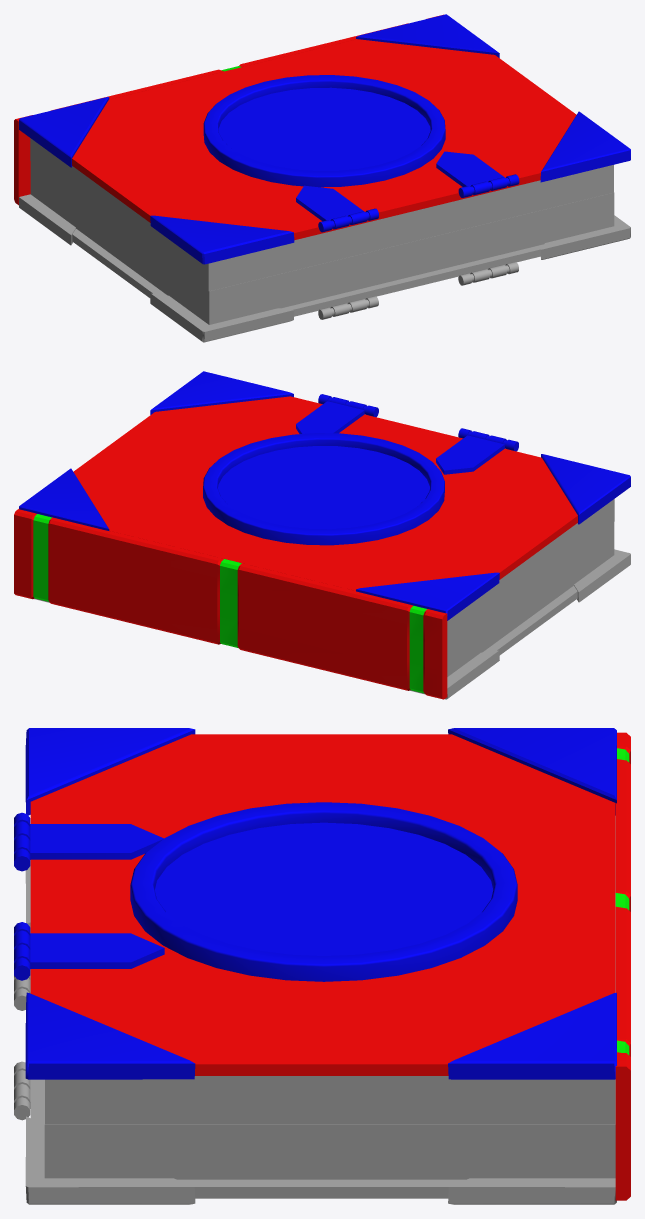
File: Prop_Book_Open_Animation_2.fbx
The picture shows the model from 3 angles, top to bottom: view 1: azimuth 30°, elevation 25°; view 2: azimuth 150°, elevation 25°; view 3: azimuth 270°, elevation 25°; orthographic projection. The views are drawn at different scales.
Parts seen in each view (by area): view 1: Cover1, pageFloor, pageBackground, Cover2, Spine; view 2: Cover1, Spine, pageFloor, pageBackground, Cover2; view 3: Cover1, pageFloor, pageBackground, Cover2, Spine.
Boxes of the visible parts, x1=… form: Cover1: x1=19, y1=14, x2=630, y2=264; pageFloor: x1=30, y1=161, x2=614, y2=324; pageBackground: x1=30, y1=138, x2=613, y2=291; Cover2: x1=19, y1=194, x2=630, y2=342; Spine: x1=14, y1=14, x2=443, y2=205; Cover1: x1=19, y1=371, x2=630, y2=620; Spine: x1=14, y1=509, x2=447, y2=699; pageFloor: x1=447, y1=522, x2=614, y2=676; pageBackground: x1=447, y1=499, x2=614, y2=643; Cover2: x1=34, y1=549, x2=630, y2=699; Cover1: x1=14, y1=728, x2=616, y2=1079; pageFloor: x1=44, y1=816, x2=615, y2=1179; pageBackground: x1=45, y1=1076, x2=615, y2=1124; Cover2: x1=14, y1=860, x2=616, y2=1204; Spine: x1=615, y1=732, x2=630, y2=1200.
Size of the model in its own units: 12.32 by 2.88 by 9.61.
